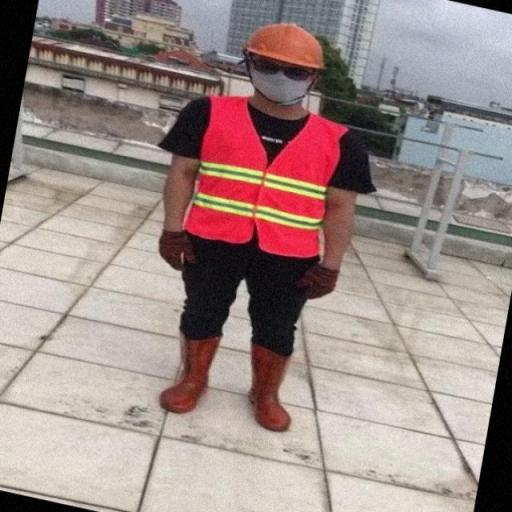Person: (111, 0, 403, 458)
boots: (233, 336, 334, 448), (148, 324, 226, 424)
gloves: (288, 238, 358, 308), (147, 222, 200, 274)
goggles: (238, 56, 328, 84)
helmet: (218, 21, 384, 77)
vest: (185, 82, 373, 272)
